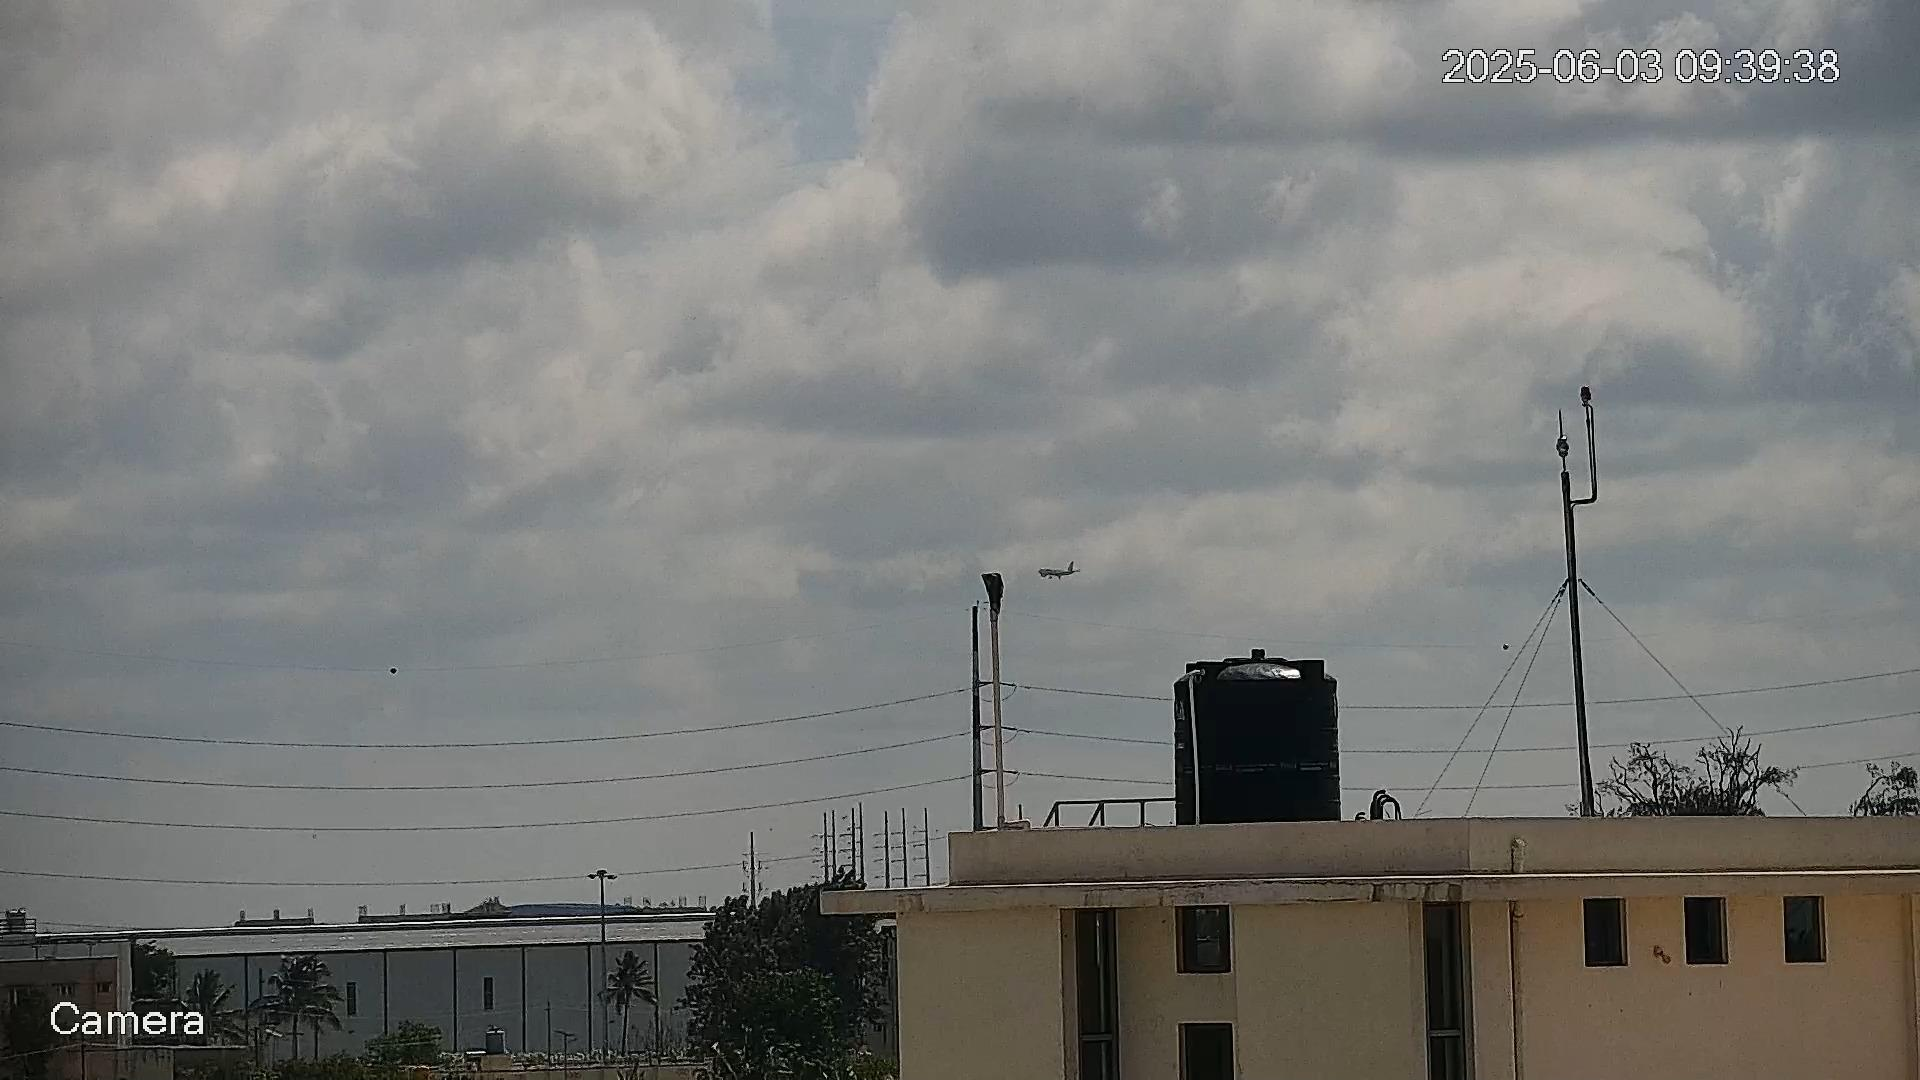Aircraft: (1036, 562, 1079, 580)
